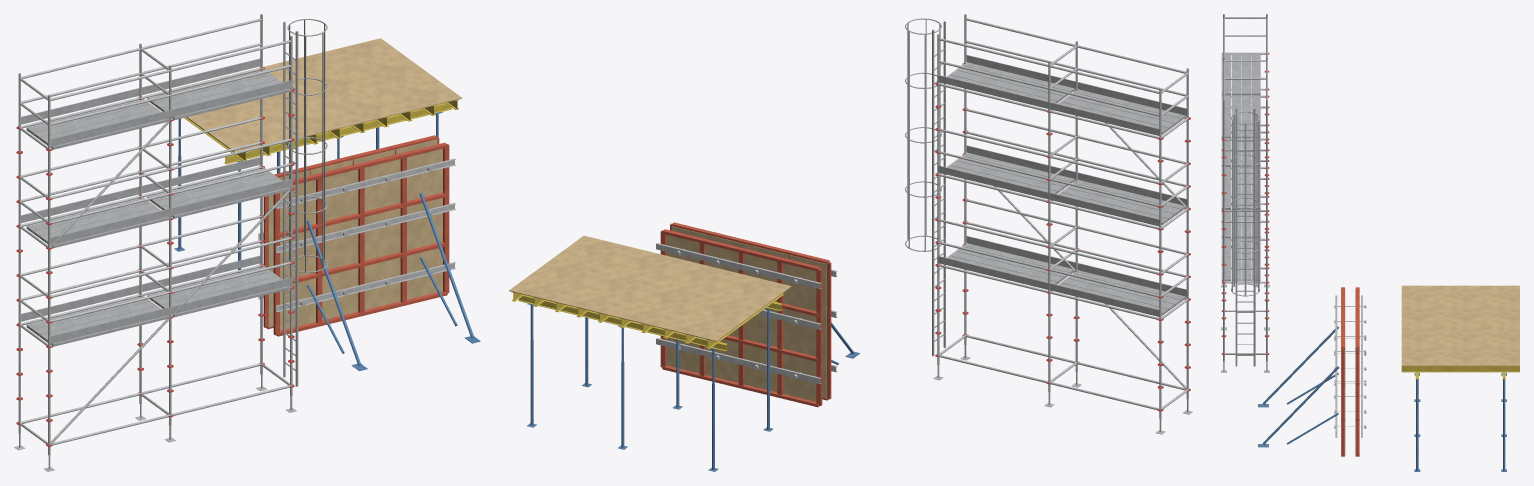
File: formwork-scaffolding.glb
The picture shows the model from 3 angles, left to right: view 1: azimuth 30°, elevation 25°; view 2: azimuth 150°, elevation 25°; view 3: azimuth 270°, elevation 25°; orthographic projection. The views are drawn at different scales.
Visible parts, largest first — view 1: Planks&ToeBoards, PlywoodFaces, Ledgers&GuardRails, SlabDeck, WallFormworkFrames, RinglockStandards, TieRods&Walers, FormworkBeams, Push-PullProps, DiagonalBraces, Rosettes, ShoringProps; view 2: Planks&ToeBoards, SlabDeck, Ledgers&GuardRails, PlywoodFaces, WallFormworkFrames, RinglockStandards, TieRods&Walers, ShoringProps, FormworkBeams, Rosettes, DiagonalBraces; view 3: SlabDeck, Planks&ToeBoards, Ledgers&GuardRails, WallFormworkFrames, RinglockStandards, TieRods&Walers, Push-PullProps, FormworkBeams, ShoringProps, Rosettes, PlywoodFaces.
Part boxes in pixels (x1,y1,x2,y2): Planks&ToeBoards: [21, 18, 327, 386]; PlywoodFaces: [268, 139, 442, 330]; Ledgers&GuardRails: [19, 18, 291, 445]; SlabDeck: [155, 38, 462, 152]; WallFormworkFrames: [263, 135, 449, 336]; RinglockStandards: [18, 14, 292, 455]; TieRods&Walers: [258, 158, 455, 312]; FormworkBeams: [184, 99, 458, 164]; Push-PullProps: [306, 193, 480, 370]; DiagonalBraces: [50, 121, 290, 444]; Rosettes: [16, 67, 294, 446]; ShoringProps: [174, 112, 442, 272]; Planks&ToeBoards: [905, 18, 1186, 356]; SlabDeck: [509, 235, 791, 341]; Ledgers&GuardRails: [938, 18, 1188, 410]; PlywoodFaces: [666, 226, 826, 401]; WallFormworkFrames: [660, 222, 831, 407]; RinglockStandards: [937, 14, 1188, 419]; TieRods&Walers: [656, 243, 837, 383]; ShoringProps: [527, 303, 773, 471]; FormworkBeams: [511, 292, 784, 351]; Rosettes: [935, 63, 1190, 411]; DiagonalBraces: [994, 123, 1186, 389]; SlabDeck: [1401, 285, 1519, 366]; Planks&ToeBoards: [1221, 52, 1260, 366]; Ledgers&GuardRails: [1223, 17, 1267, 354]; WallFormworkFrames: [1341, 287, 1359, 456]; RinglockStandards: [1223, 14, 1267, 361]; TieRods&Walers: [1334, 295, 1366, 437]; Push-PullProps: [1258, 326, 1339, 447]; FormworkBeams: [1401, 366, 1519, 379]; ShoringProps: [1414, 373, 1506, 471]; Rosettes: [1221, 52, 1269, 354]; PlywoodFaces: [1344, 289, 1355, 454].
Bounding box in the file's own units: 11.45 × 7.63 × 7.57.
Materials: 7 (7 with a texture image).
